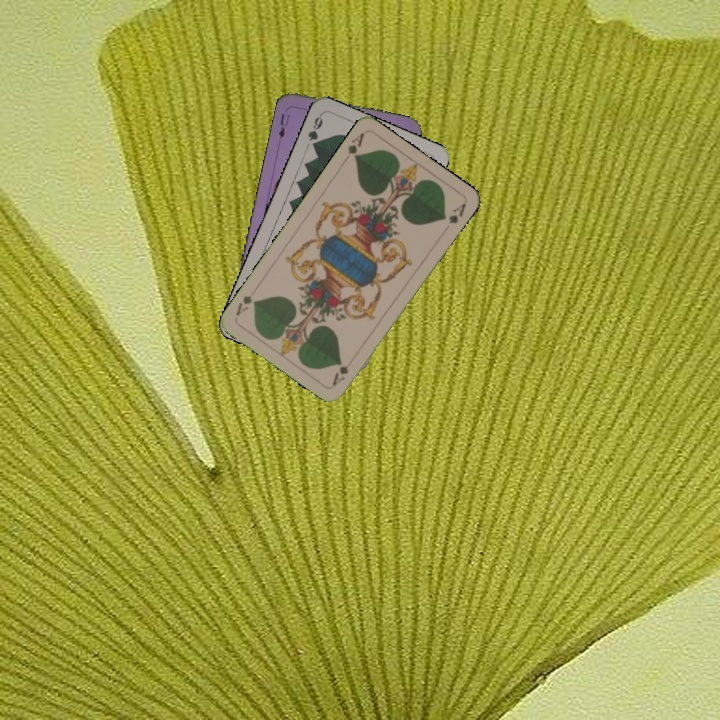EU: (275, 109, 292, 141)
G9: (304, 110, 325, 152)
GA: (339, 128, 367, 165), (328, 353, 357, 388)
